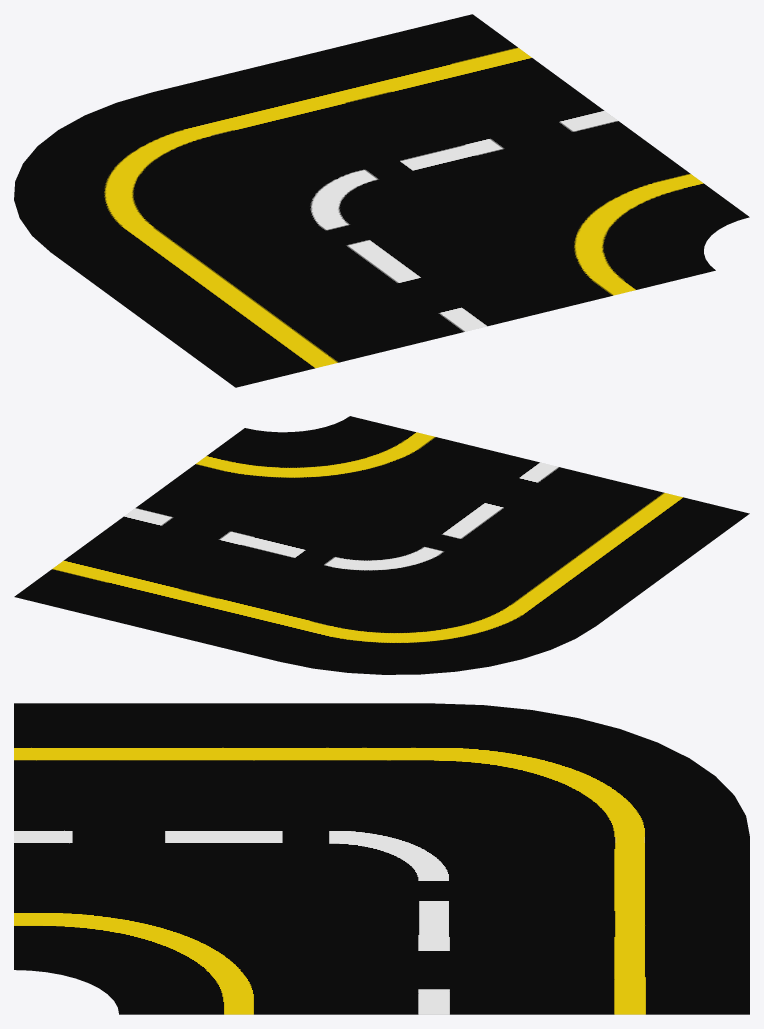
File: Road_Corner_Round.fbx
The picture shows the model from 3 angles, top to bottom: view 1: azimuth 30°, elevation 25°; view 2: azimuth 150°, elevation 25°; view 3: azimuth 270°, elevation 25°; orthographic projection. The views are drawn at different scales.
Parts seen in each view (by area): view 1: Road_Corner_Round; view 2: Road_Corner_Round; view 3: Road_Corner_Round.
Part boxes in pixels (x1=…): Road_Corner_Round: x1=14, y1=14, x2=749, y2=387; Road_Corner_Round: x1=14, y1=416, x2=749, y2=674; Road_Corner_Round: x1=14, y1=703, x2=749, y2=1014.
Size of the model in its own units: 175 by 2.85e-05 by 175.
